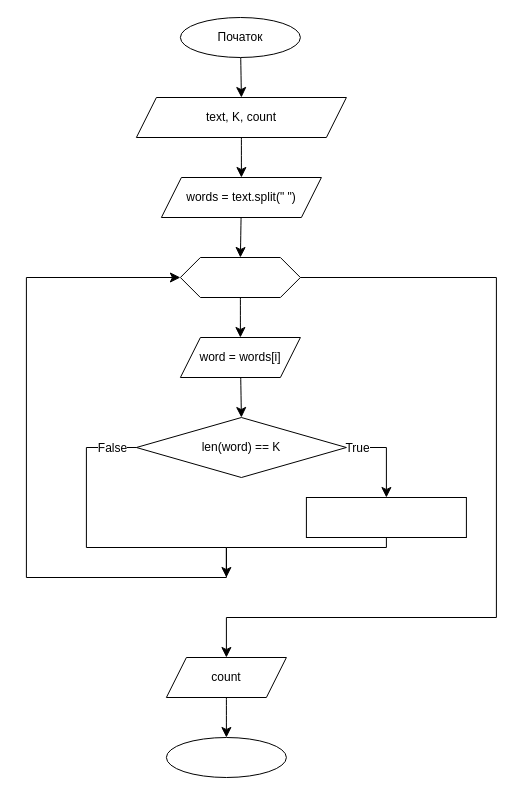
Image size: 524x795. Some labels were removed from this diagram. Here are the shapes that lost their labels. From the top down, the box of each, then its label:
(179, 256, 300, 298): i=0; len(words); 1
(305, 496, 466, 538): count++
(165, 736, 286, 778): Кінець
